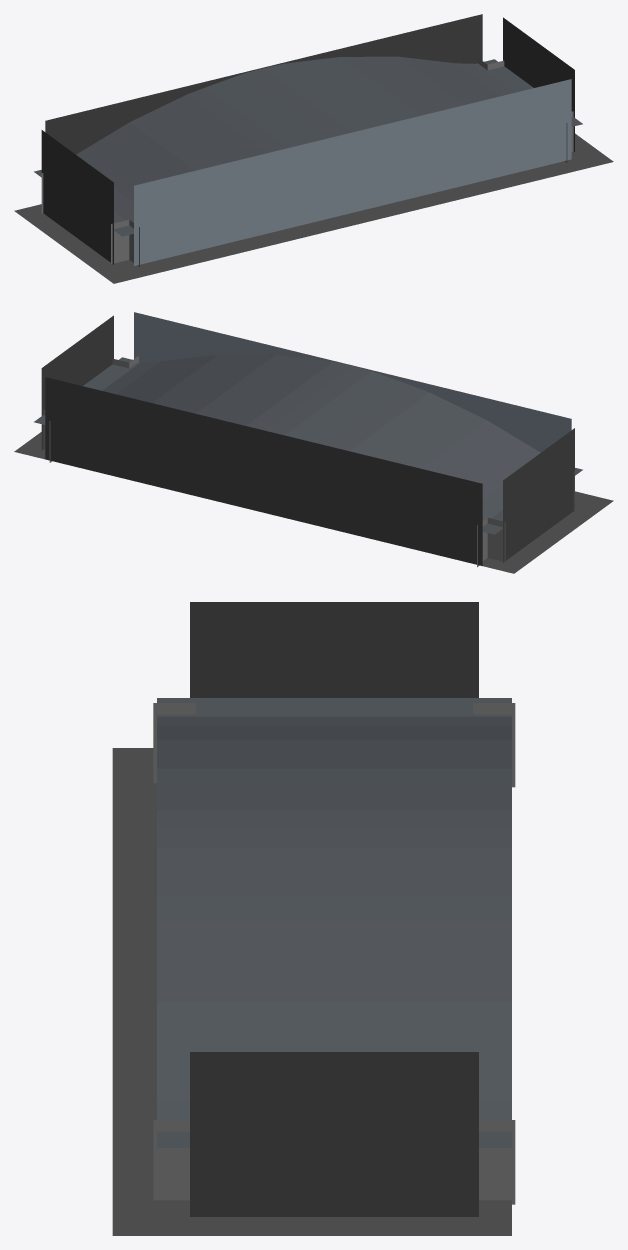
File: jet_Hangar 1.fbx
The picture shows the model from 3 angles, top to bottom: view 1: azimuth 30°, elevation 25°; view 2: azimuth 150°, elevation 25°; view 3: azimuth 270°, elevation 25°; orthographic projection. The views are drawn at different scales.
Parts seen in each view (by area): view 1: Hangar_Door, Hangar_Roof, Hangar_Ground_Mesh, Hangar_Walls, Hangar_Wall, Pillars; view 2: Hangar_Wall, Hangar_Roof, Hangar_Walls, Hangar_Door, Hangar_Ground_Mesh, Pillars; view 3: Hangar_Roof, Hangar_Walls, Hangar_Ground_Mesh, Pillars.
Part boxes in pixels (<box>): Hangar_Door: <box>134,79,571,265</box>; Hangar_Roof: <box>34,56,582,236</box>; Hangar_Ground_Mesh: <box>14,133,613,283</box>; Hangar_Walls: <box>41,17,574,264</box>; Hangar_Wall: <box>45,14,482,154</box>; Pillars: <box>41,58,573,267</box>; Hangar_Wall: <box>45,377,482,565</box>; Hangar_Roof: <box>34,354,582,534</box>; Hangar_Walls: <box>41,315,574,562</box>; Hangar_Door: <box>134,312,571,452</box>; Hangar_Ground_Mesh: <box>14,432,613,573</box>; Pillars: <box>43,356,574,567</box>; Hangar_Roof: <box>157,698,511,1147</box>; Hangar_Walls: <box>190,602,478,1216</box>; Hangar_Ground_Mesh: <box>112,748,511,1235</box>; Pillars: <box>153,703,515,1204</box>.
Bounding box in the file's own units: 2603 × 420 × 908.
